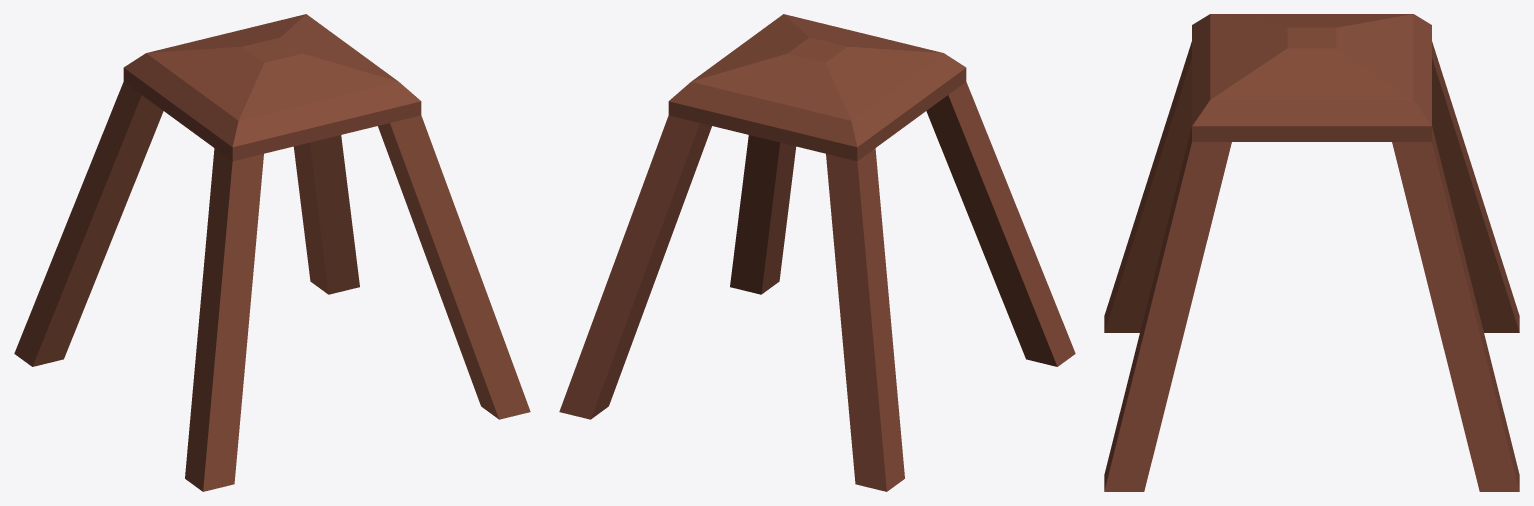
The model's file is chair2.fbx.
The picture shows the model from 3 angles, left to right: view 1: azimuth 30°, elevation 25°; view 2: azimuth 150°, elevation 25°; view 3: azimuth 270°, elevation 25°; orthographic projection. The views are drawn at different scales.
Parts seen in each view (by area): view 1: Cube; view 2: Cube; view 3: Cube.
Part boxes in pixels (box(x1,y1,x2,y2)): Cube: box(14, 14, 530, 491); Cube: box(559, 14, 1075, 491); Cube: box(1104, 14, 1519, 491).
Bounding box in the file's own units: 409 × 397 × 408.
